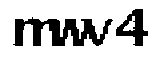4: (117, 5, 151, 50)
m: (8, 17, 59, 51)
v: (85, 18, 113, 47)
w: (53, 16, 88, 49)
